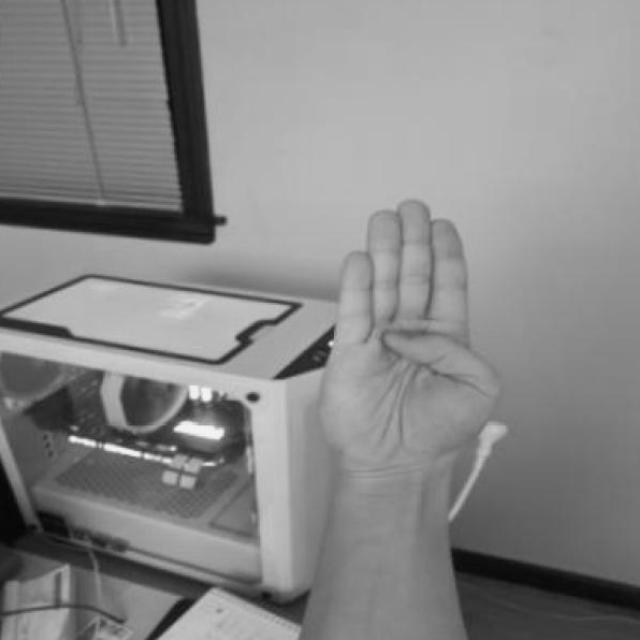B: (304, 191, 511, 510)
